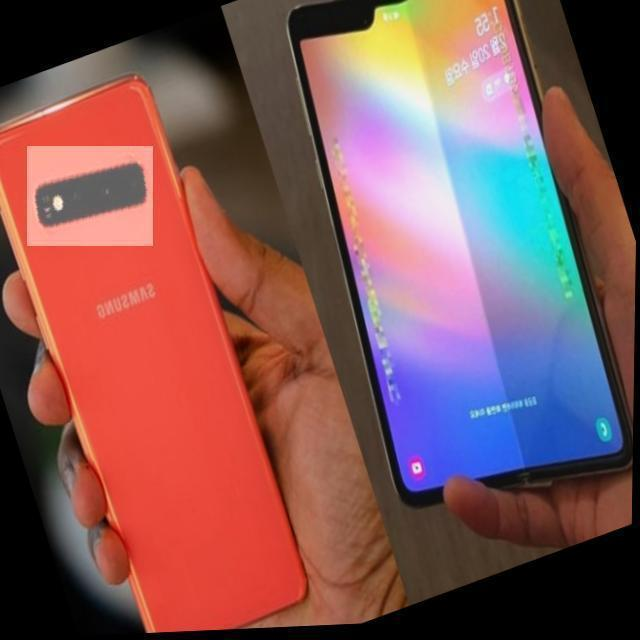Mobile: (308, 0, 625, 489), (6, 74, 261, 619)
